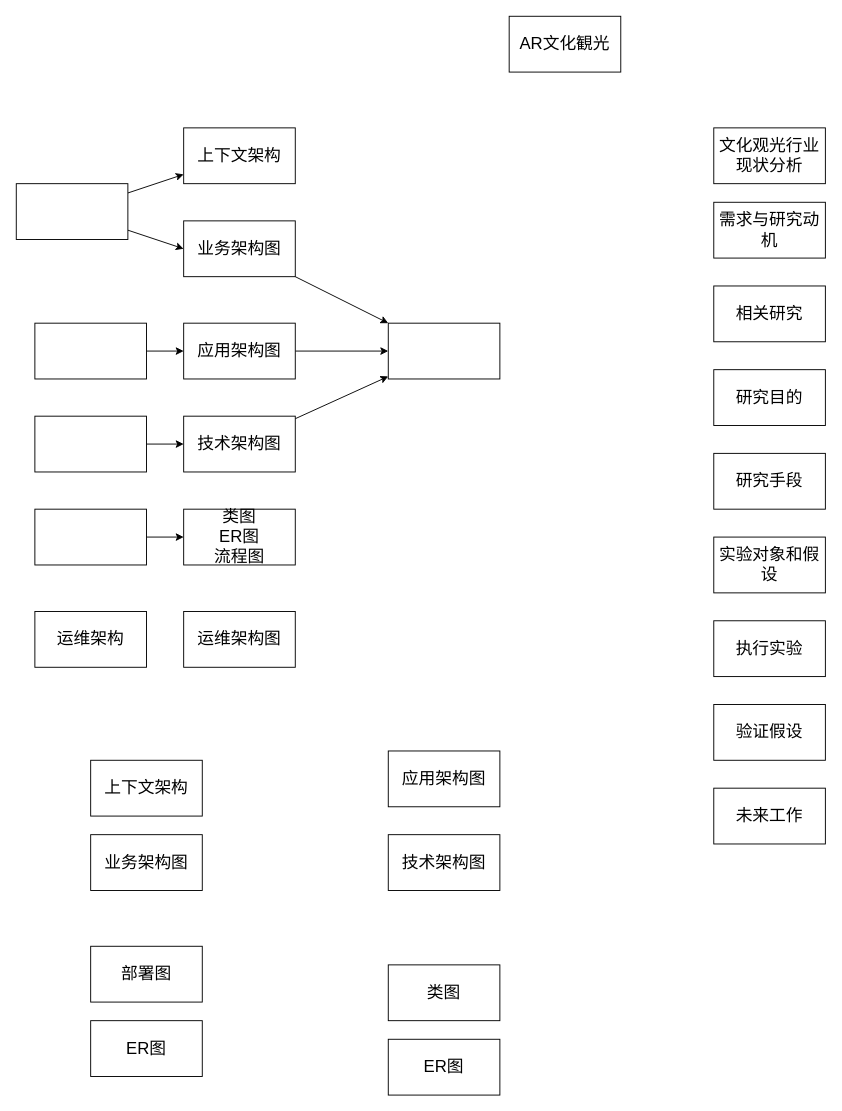
Some shapes in this 842 by 1111 pixel diagram are drawn without their labels. Here are the shapes that lost their labels. From the top down, the box of each, then its label:
(15, 183, 128, 239): 上下文
(34, 322, 146, 379): 容器
(387, 322, 500, 379): 时序图
(34, 415, 146, 472): 组件
(34, 508, 146, 565): 代码
